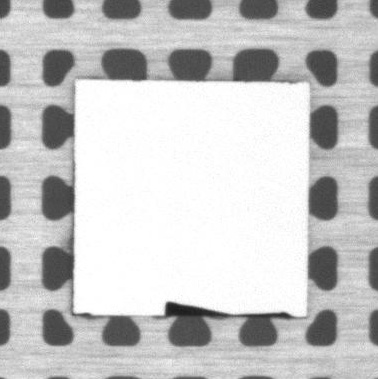DIE_INK: (165, 301, 291, 318)
